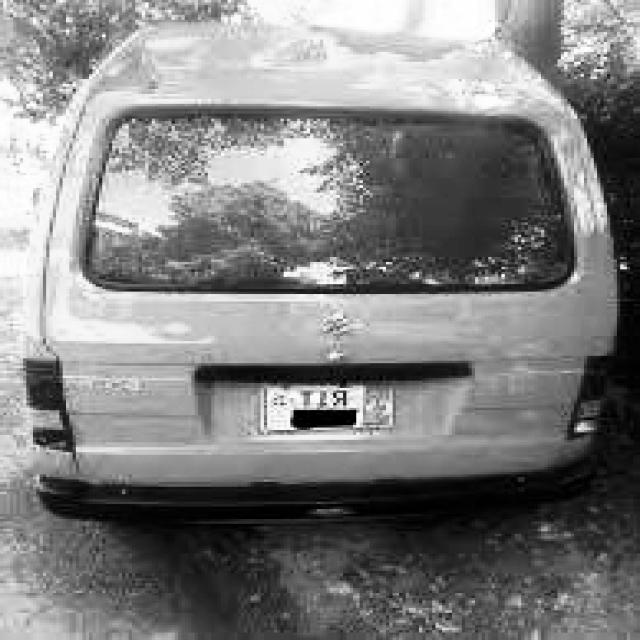LCV: (19, 25, 636, 526)
